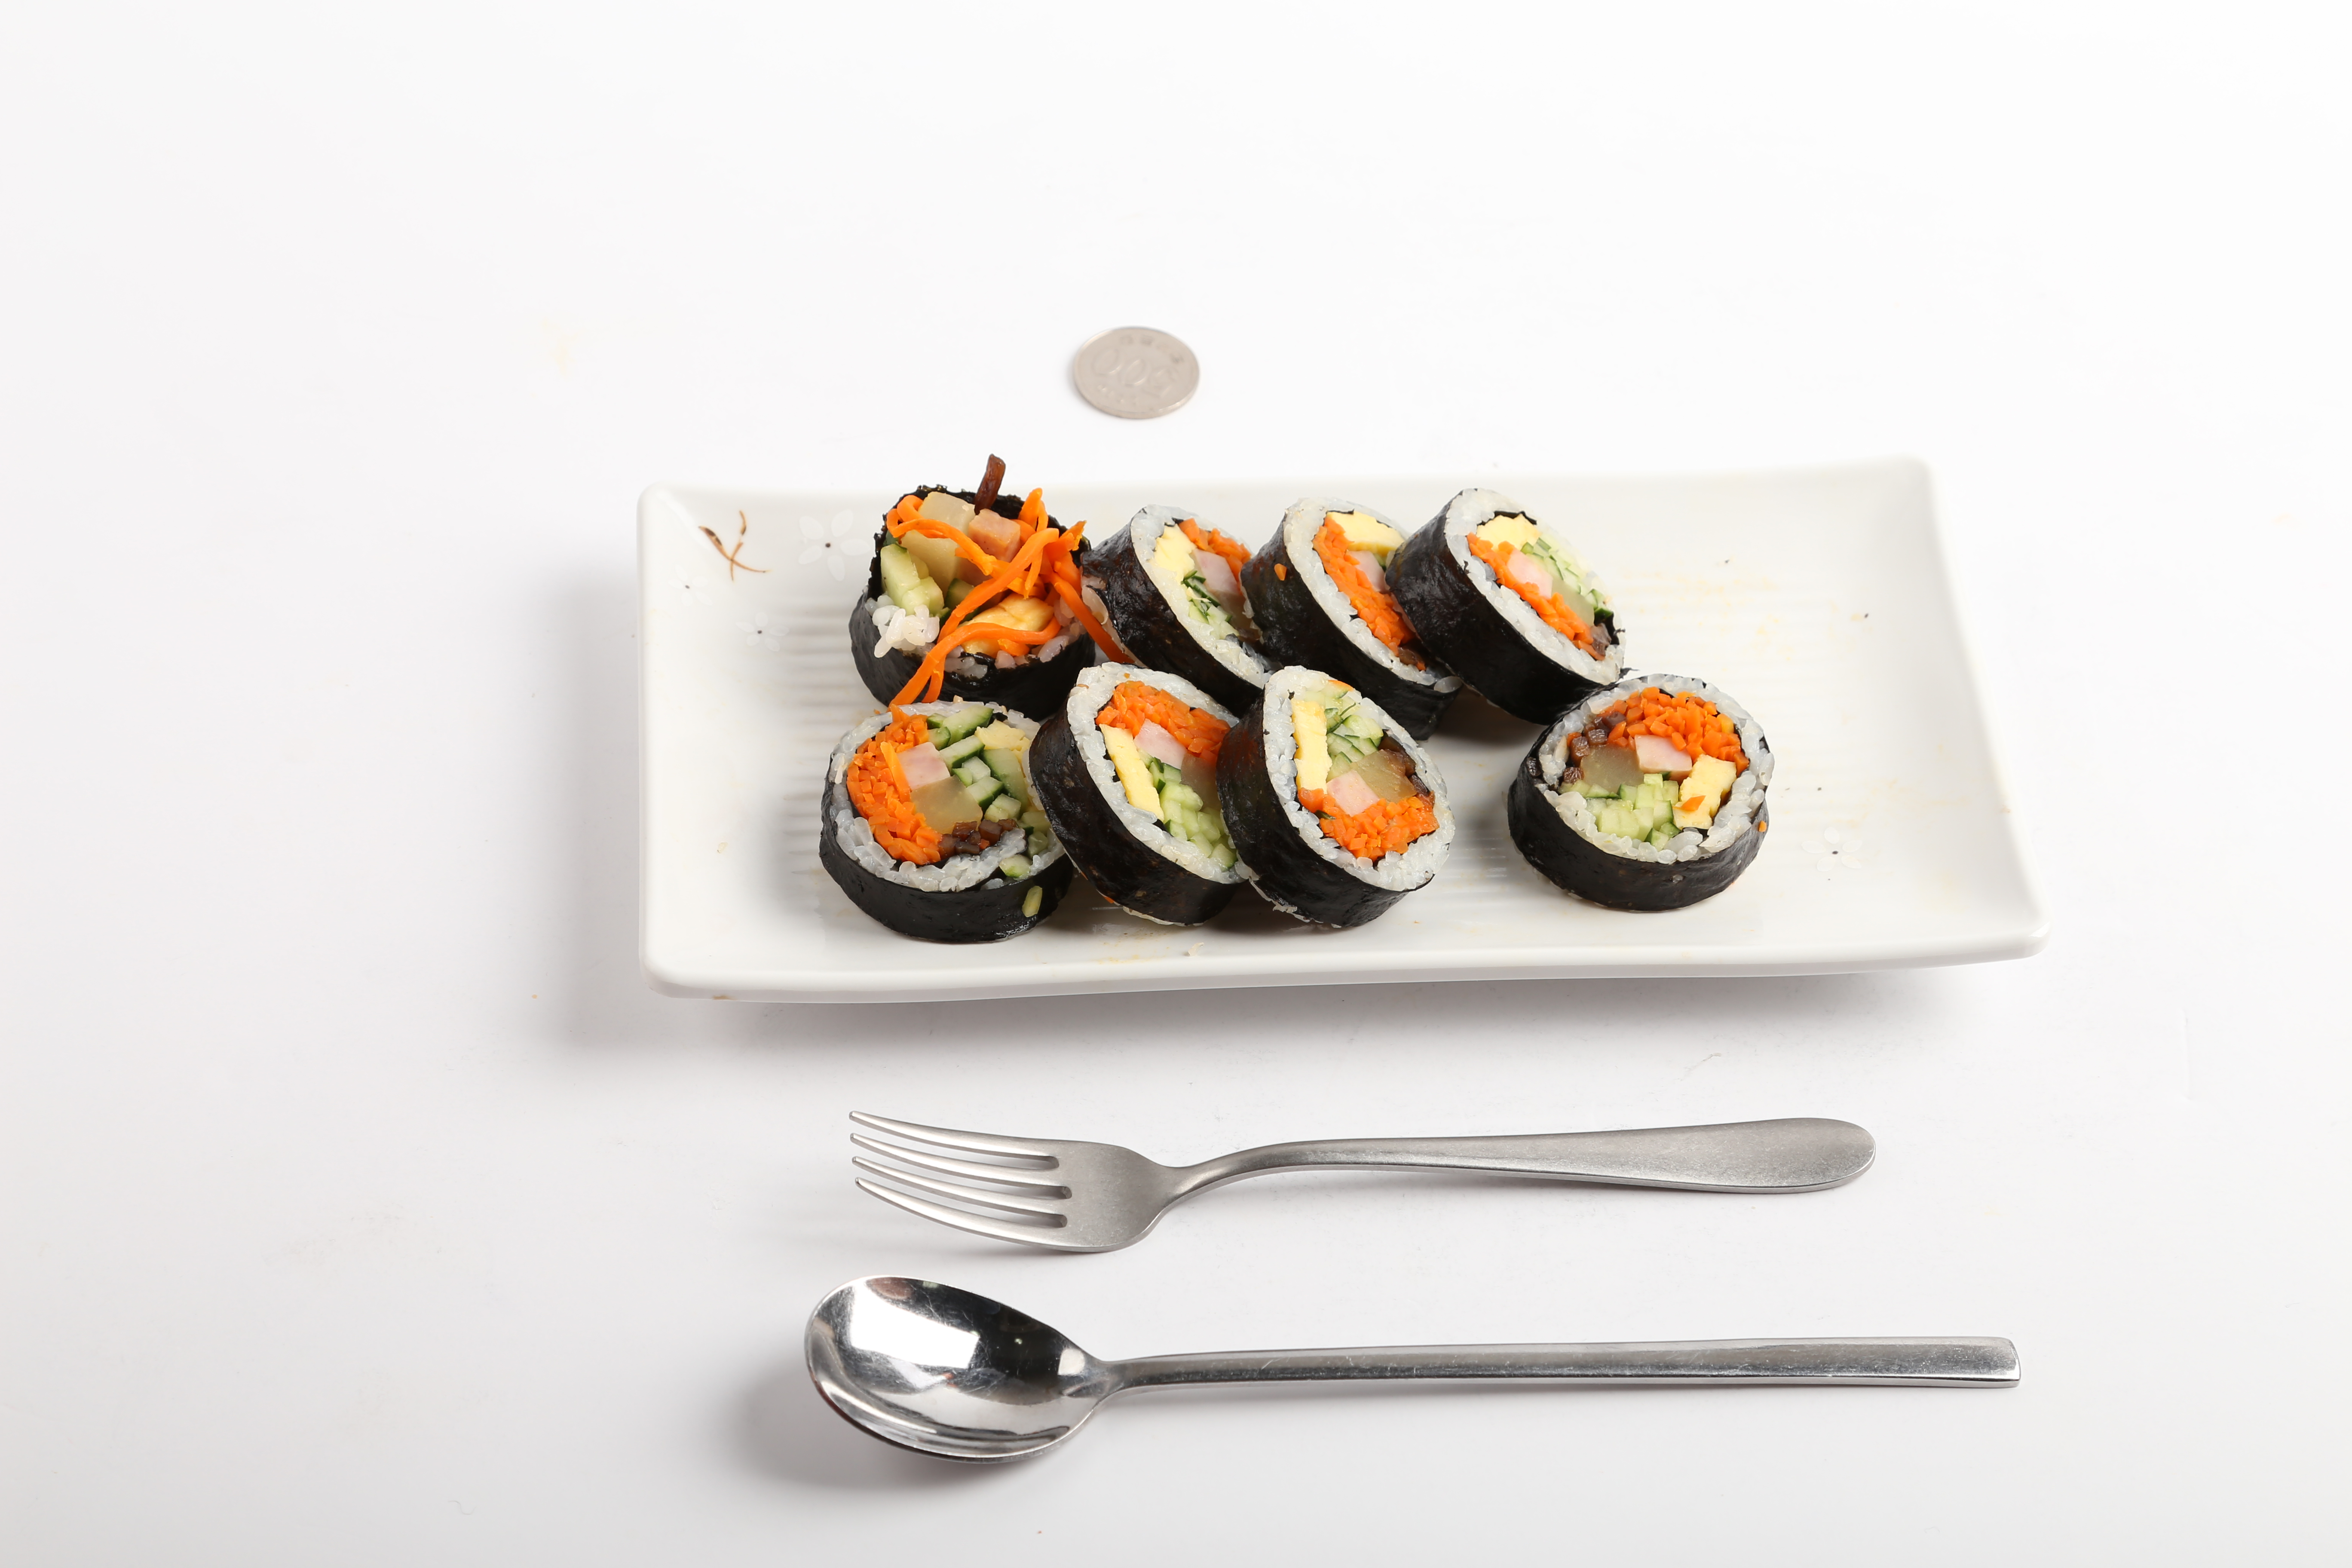dish: (626, 446, 2047, 1010)
ref_coin: (1062, 317, 1204, 427)
ref_fork: (845, 1104, 1232, 1256)
ref_spoon: (798, 1269, 1186, 1470)
김밥: (821, 458, 1774, 941)
